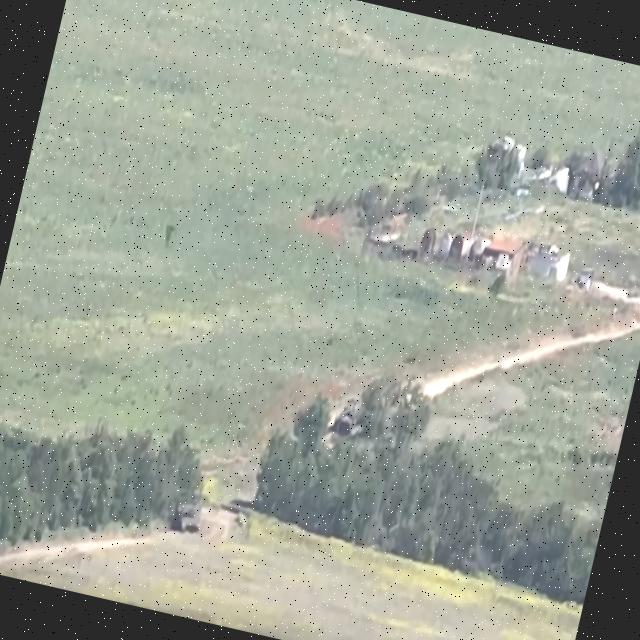MBT: (170, 493, 208, 546), (332, 393, 366, 438)
